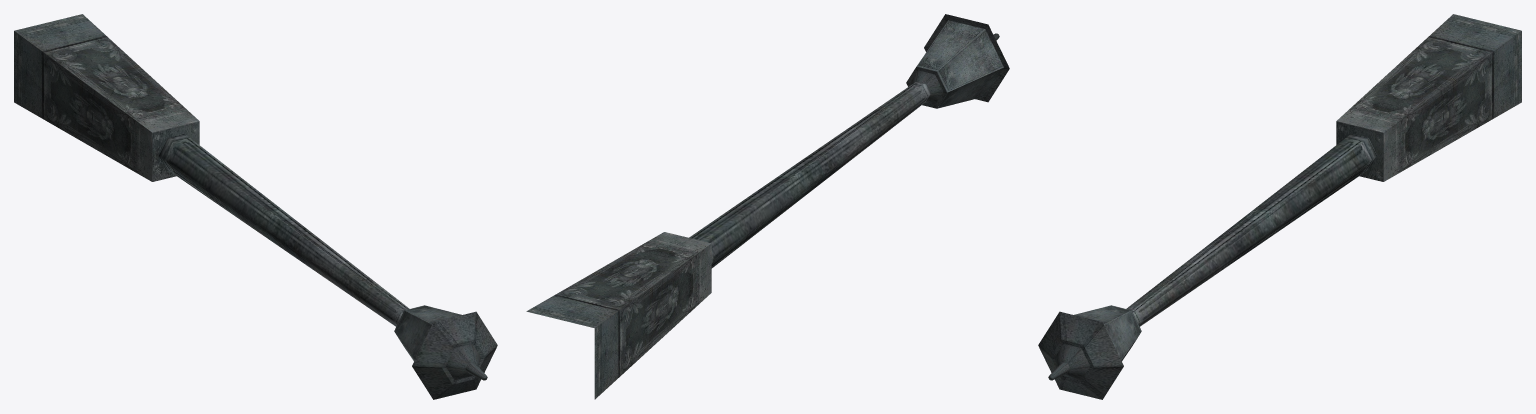
Rendered from prop_streetlamp_dim.glb.
The picture shows the model from 3 angles, left to right: view 1: azimuth 30°, elevation 25°; view 2: azimuth 150°, elevation 25°; view 3: azimuth 330°, elevation 25°; orthographic projection.
Bounding box in the file's own units: 18.04 × 15.62 × 159.
2 materials, 2 textured.
